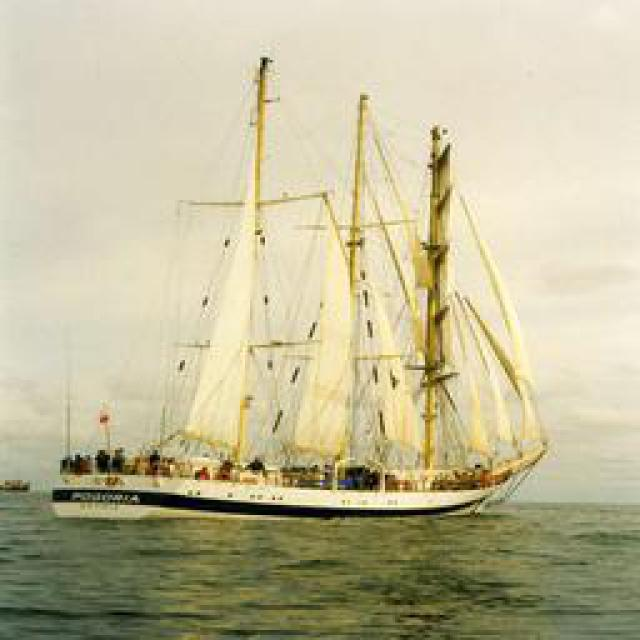Ship: (63, 49, 561, 522)
